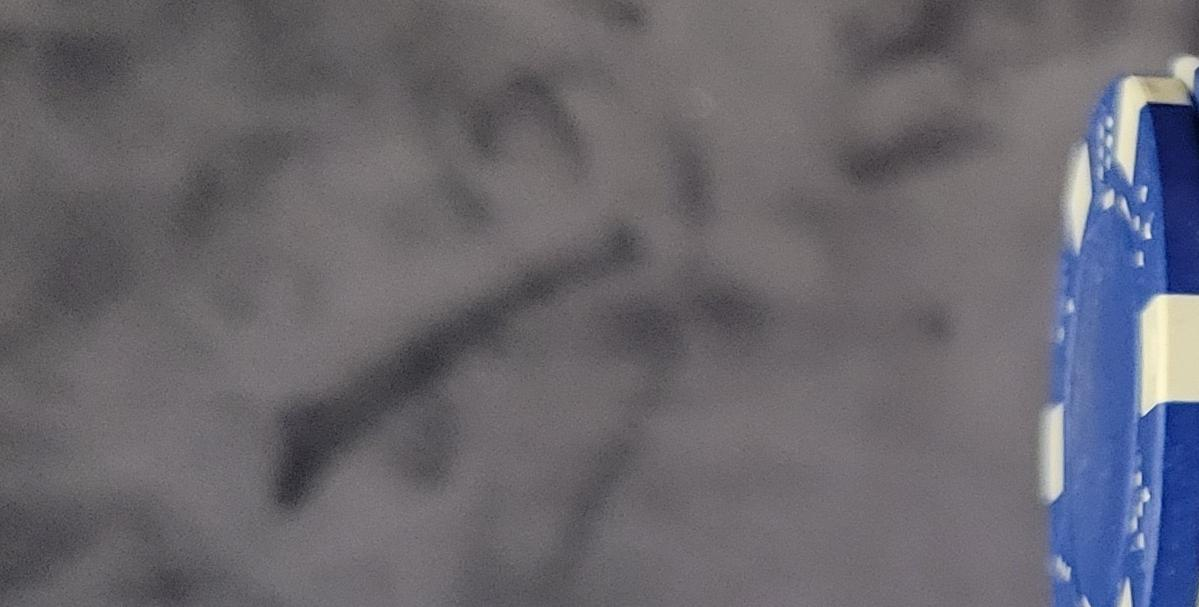Chip: (1, 391, 875, 607)
